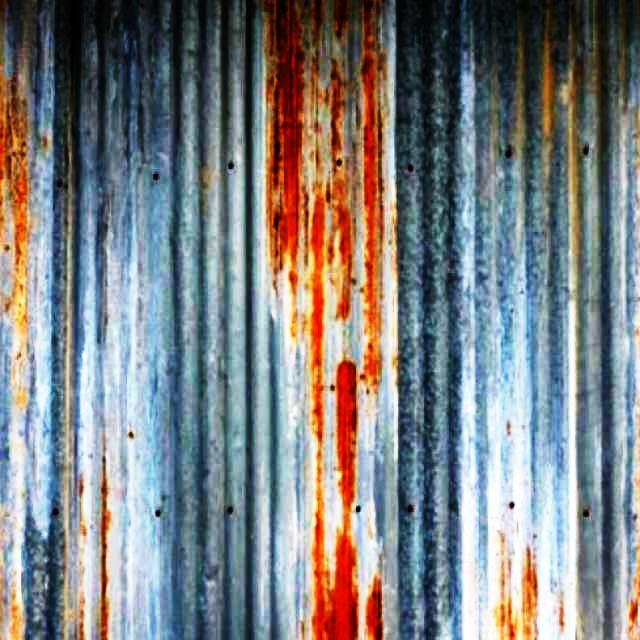Corrosion: (266, 0, 396, 640)
